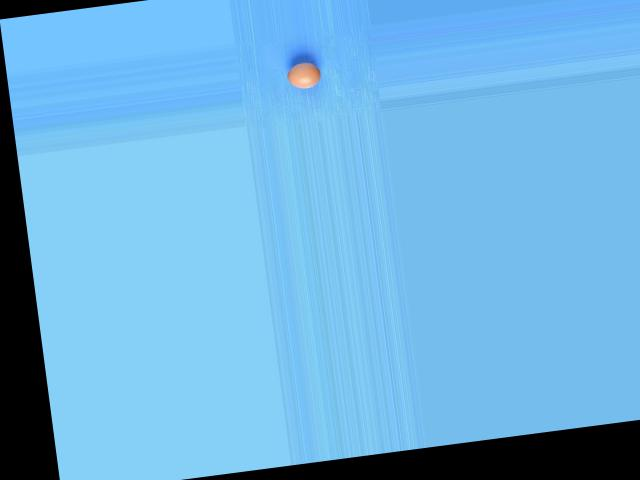egg: (286, 59, 321, 90)
